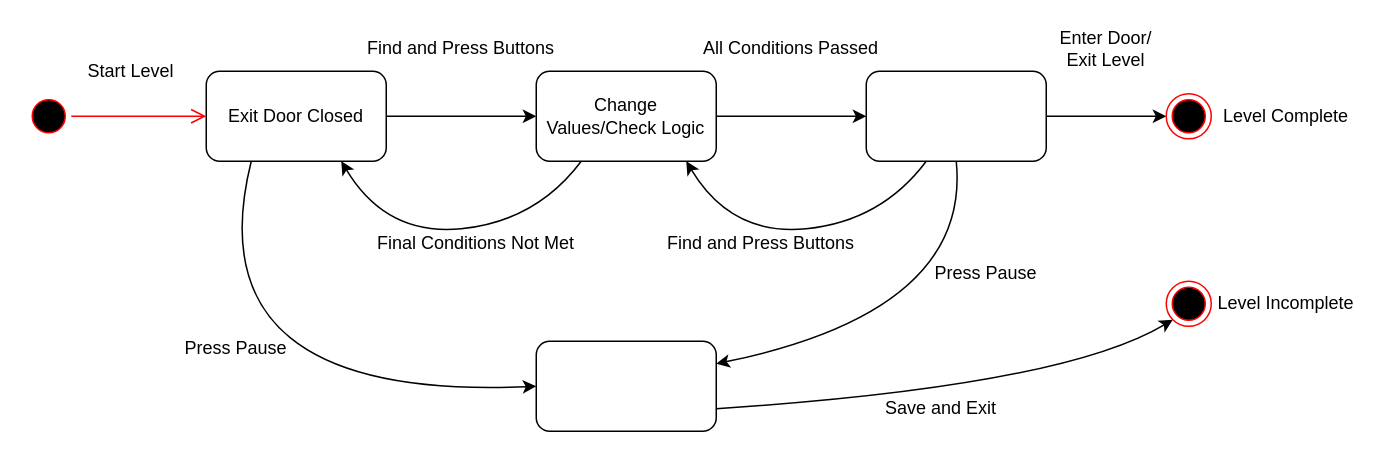
Image size: 1388x458. Some labels were removed from this diagram. Here are the shapes that lost their labels. From the top down, the centre of each, then its label:
At [955,115]: "Exit Door Open".
At [625,385]: "Game Paused".
